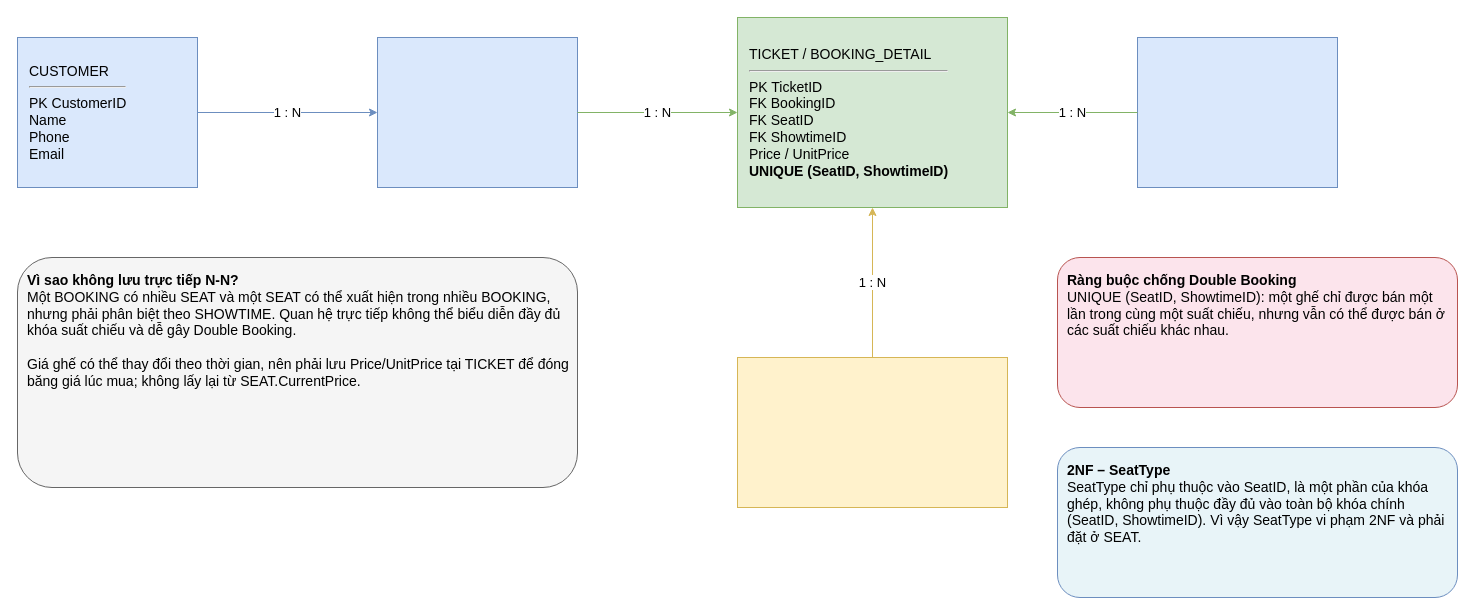
Some shapes in this 1475 by 615 pixel diagram are drawn without their labels. Each missing label, with the centre of its shape:
BOOKING PK BookingID FK CustomerID BookingDate Status: the point at 477,112
SEAT PK SeatID SeatNumber SeatType CurrentPrice Status: the point at 1237,112
SHOWTIME PK ShowtimeID MovieID RoomID StartTime: the point at 872,432
